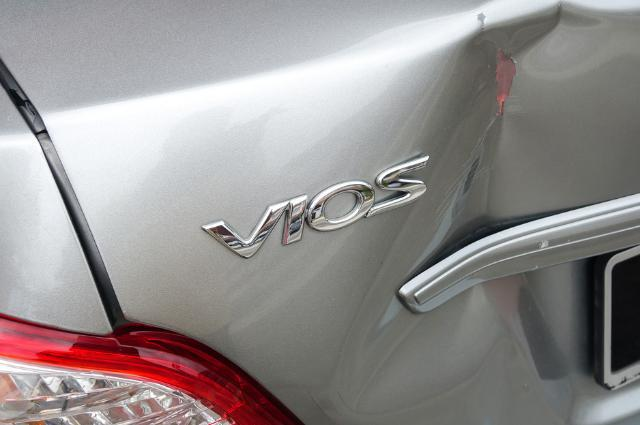Dickey: (375, 12, 596, 368)
